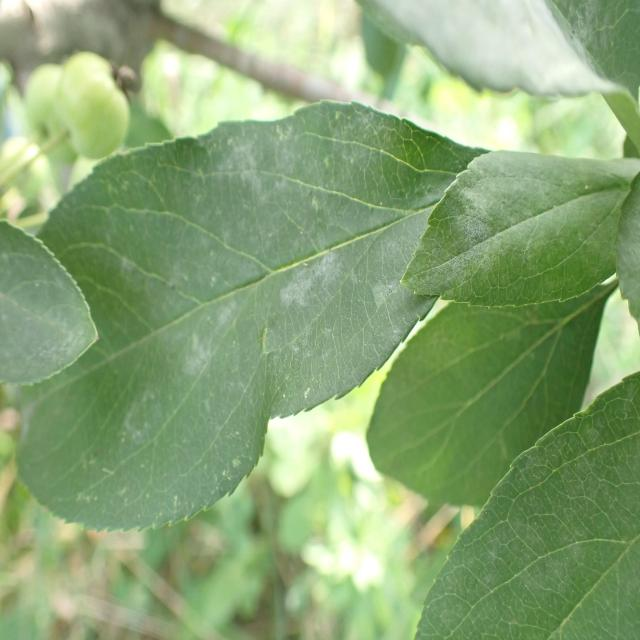Powdery_mildew: (69, 86, 451, 402), (382, 407, 640, 620)
